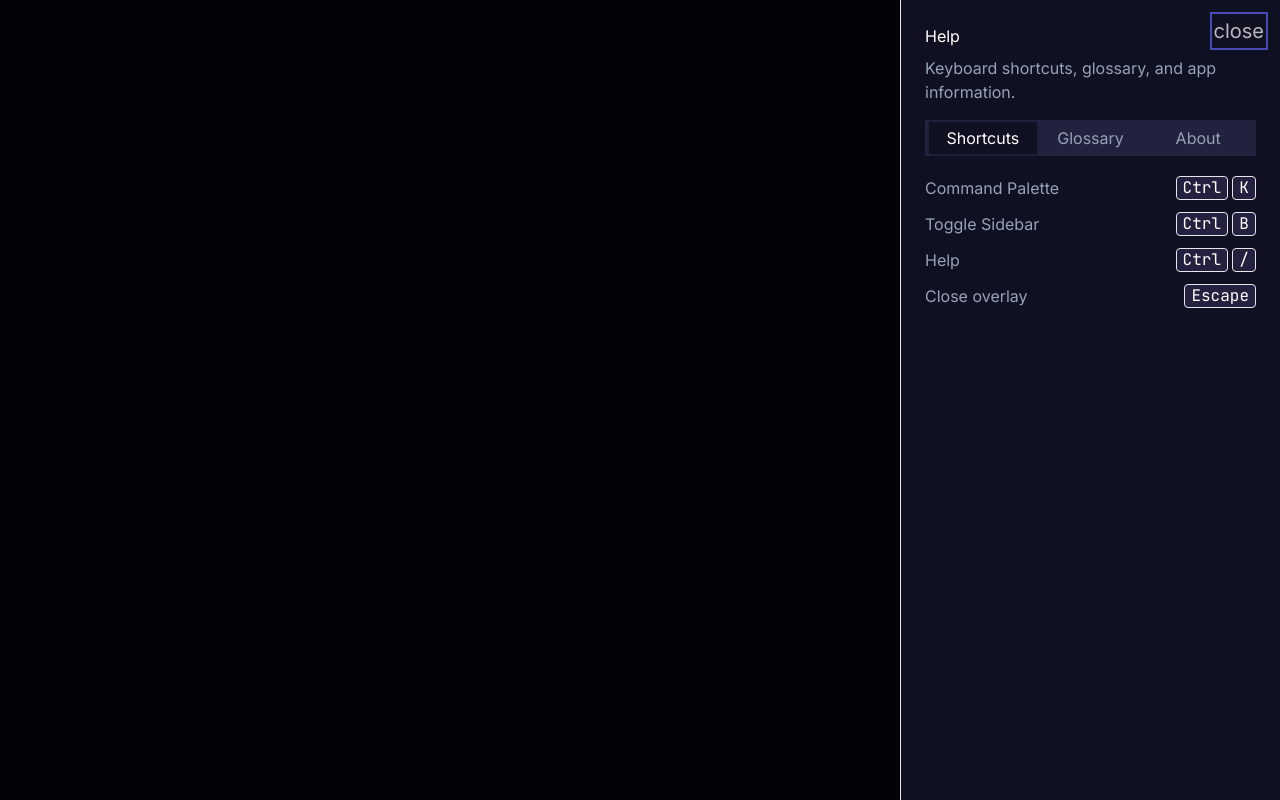
Test: HelpDrawer › can switch to about tab
The width and height of the screenshot is (1280, 800).
Click the tab "About": (1198, 138) [1144, 122, 1252, 154]
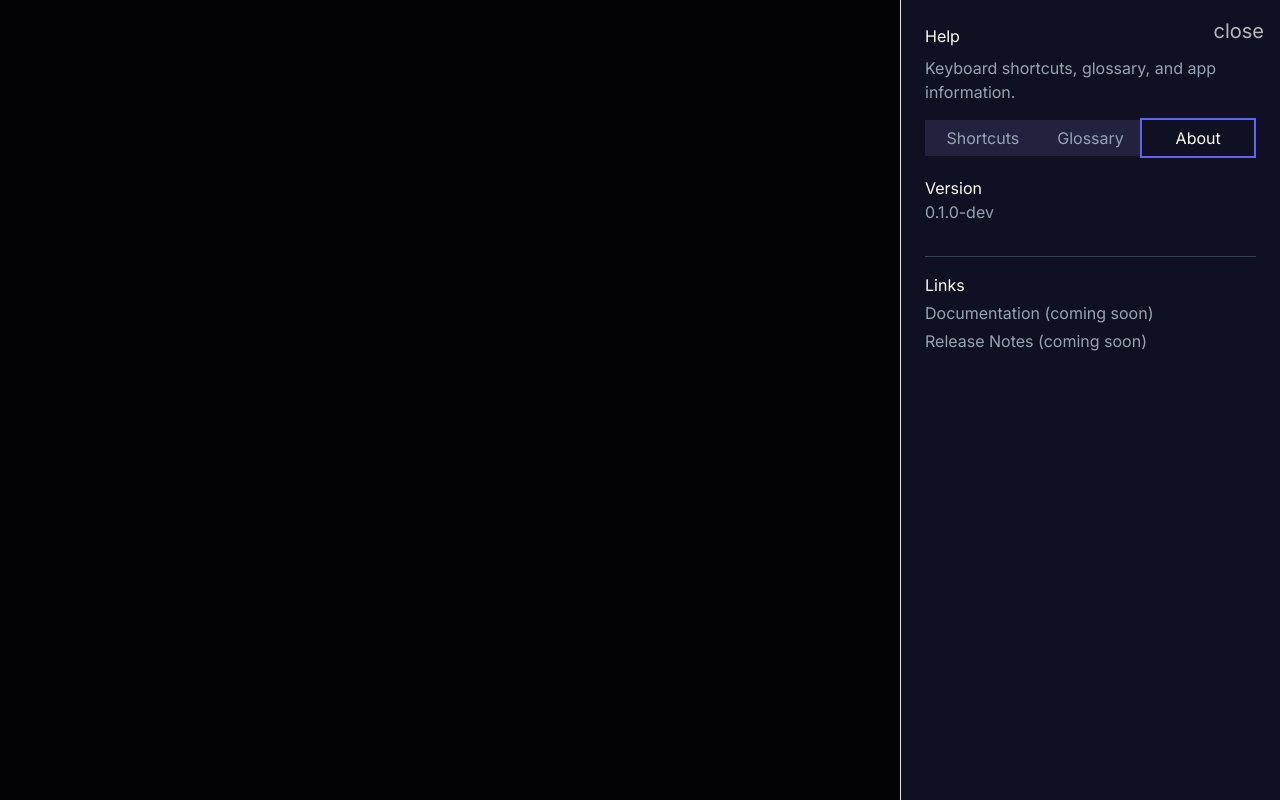
expect the heading "Version" is shown: met, box [925, 178, 982, 198]
expect the text "0.1.0-dev" is shown: met, box [925, 202, 994, 222]
expect the heading "Links" is shown: met, box [925, 275, 965, 295]
